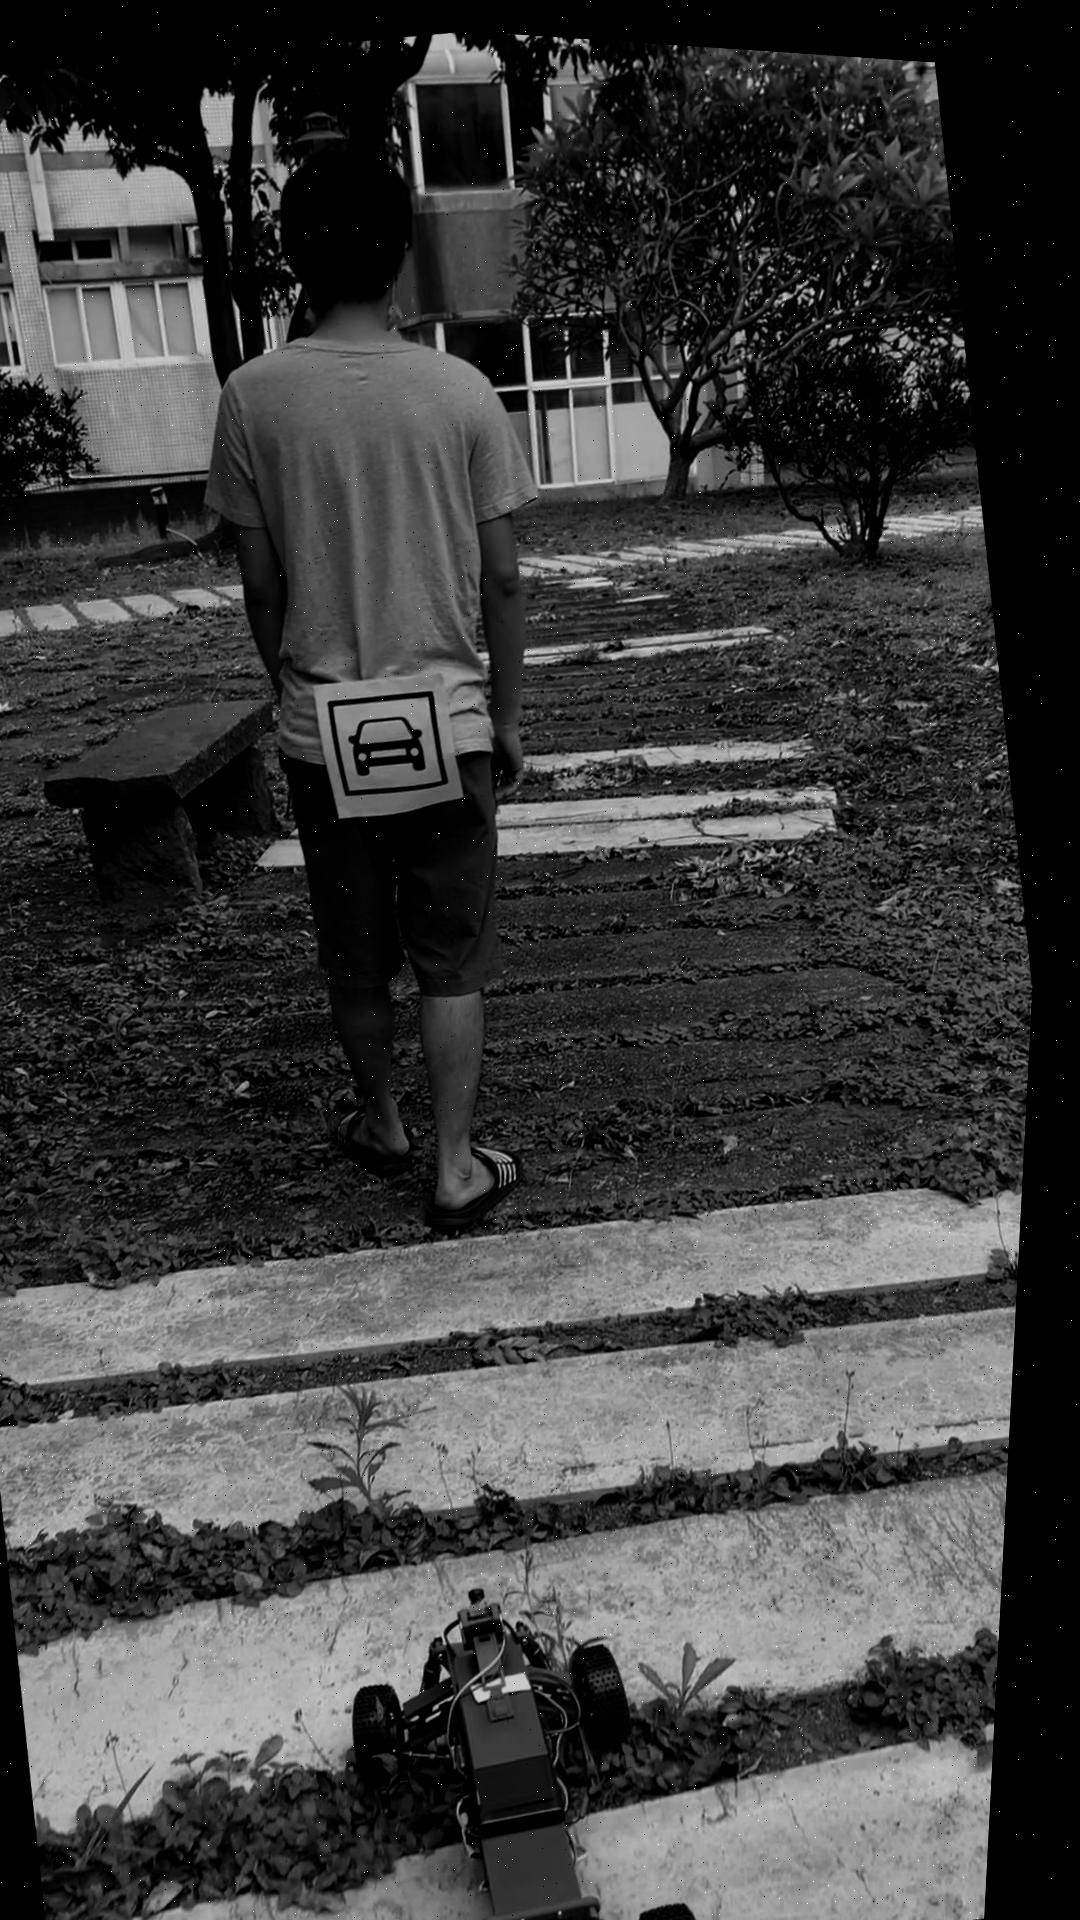car_img: (330, 676, 460, 798)
